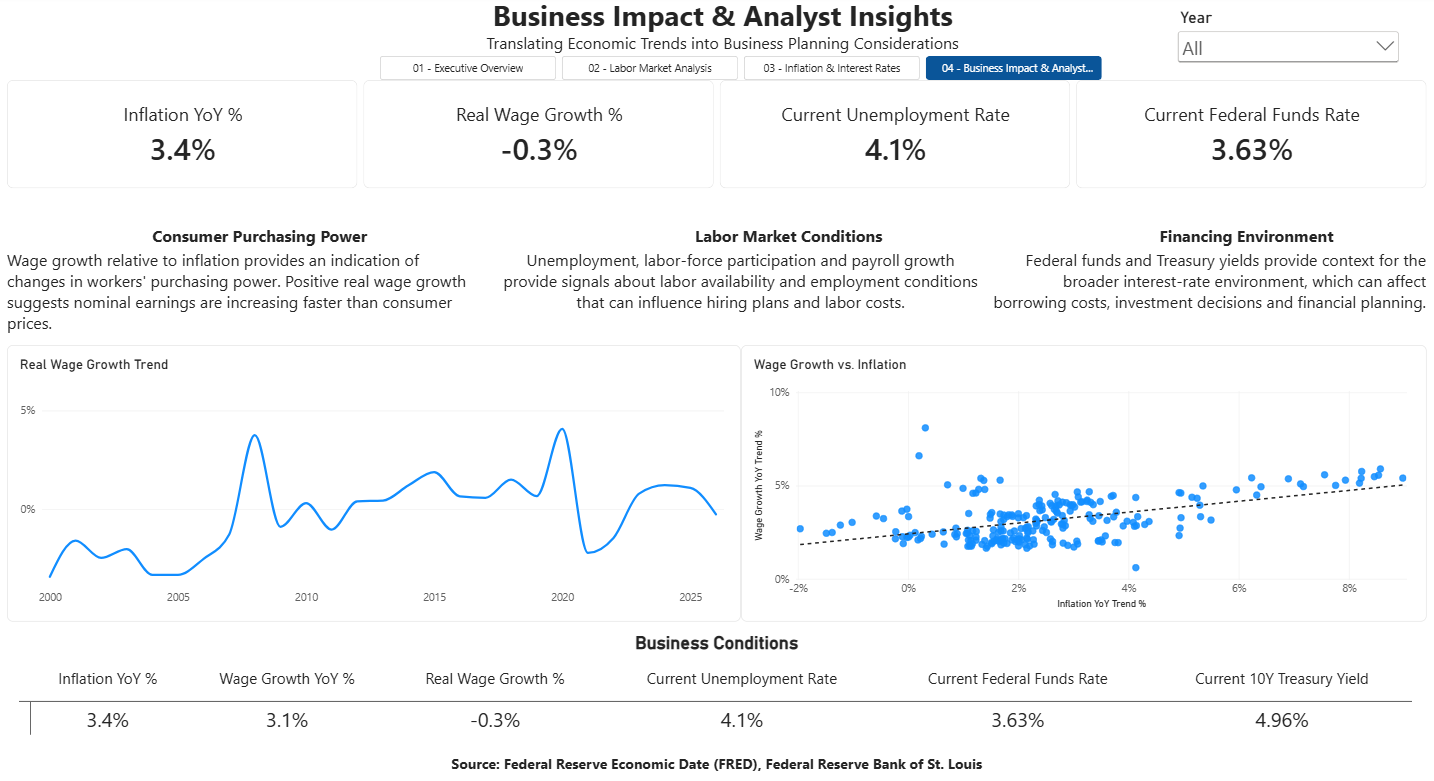

The page's visual inventory and layout, read from the dashboard file:
{"tool":"powerbi","page":{"name":"04 - Business Impact & Analyst Insights","canvas":[1920,1080],"ordinal":3},"visuals":[{"type":"textbox","box":[16,0,1904,64],"z":0},{"type":"textbox","box":[16,48,1904,32],"z":1},{"type":"slicer","fields":{"Values":["Dim_Month.Year"]},"box":[1568,16,304,80],"z":2},{"type":"cardVisual","fields":{"Data":["Measurers.Inflation YoY %","Measurers.Real Wage Growth %","Fact_Unemployment.Current Unemployment Rate","Measurers.Current Federal Funds Rate"]},"box":[16,112,1888,144],"z":3},{"type":"pivotTable","title":"Business Conditions","fields":{"Values":["Measurers.Inflation YoY %","Measurers.Wage Growth YoY %","Measurers.Real Wage Growth %","Fact_Unemployment.Current Unemployment Rate","Measurers.Current Federal Funds Rate","Measurers.Current 10Y Treasury Yield"]},"box":[16,832,1888,176],"z":4},{"type":"textbox","box":[16,336,624,112],"z":5},{"type":"textbox","box":[16,304,672,32],"z":6},{"type":"textbox","box":[688,304,736,32],"z":7},{"type":"textbox","box":[672,336,640,112],"z":8},{"type":"textbox","box":[1424,304,480,32],"z":9},{"type":"textbox","box":[1328,336,576,112],"z":10},{"type":"lineChart","title":"Real Wage Growth Trend","fields":{"Category":["Dim_Month.Month Start.Variation.Date Hierarchy.Year","Dim_Month.Month Start.Variation.Date Hierarchy.Quarter","Dim_Month.Month Start.Variation.Date Hierarchy.Month","Dim_Month.Month Start.Variation.Date Hierarchy.Day"],"Y":["Measurers.Real Wage Growth %"]},"box":[16,464,976,368],"z":11},{"type":"scatterChart","title":"Wage Growth vs. Inflation","fields":{"X":["Measurers.Inflation YoY Trend %"],"Y":["Measurers.Wage Growth YoY Trend %"],"Category":["Dim_Month.Year Month"]},"box":[992,464,912,368],"z":12},{"type":"pageNavigator","box":[512,80,960,32],"z":13},{"type":"textbox","box":[16,1008,1888,64],"z":14}]}

Visuals, with their boxes on the page's 1920x1080 design canvas (x1, y1, x2, y2). These are canvas units, not pixel positions in the 1434x781 screenshot, which may show the page scaled, cropped or inside an application window:
textbox: crop(16, 0, 1920, 64)
textbox: crop(16, 48, 1920, 80)
slicer - Dim_Month.Year: crop(1568, 16, 1872, 96)
cardVisual - Measurers.Inflation YoY % x Measurers.Real Wage Growth %: crop(16, 112, 1904, 256)
"Business Conditions" pivotTable: crop(16, 832, 1904, 1008)
textbox: crop(16, 336, 640, 448)
textbox: crop(16, 304, 688, 336)
textbox: crop(688, 304, 1424, 336)
textbox: crop(672, 336, 1312, 448)
textbox: crop(1424, 304, 1904, 336)
textbox: crop(1328, 336, 1904, 448)
"Real Wage Growth Trend" lineChart: crop(16, 464, 992, 832)
"Wage Growth vs. Inflation" scatterChart: crop(992, 464, 1904, 832)
pageNavigator: crop(512, 80, 1472, 112)
textbox: crop(16, 1008, 1904, 1072)
